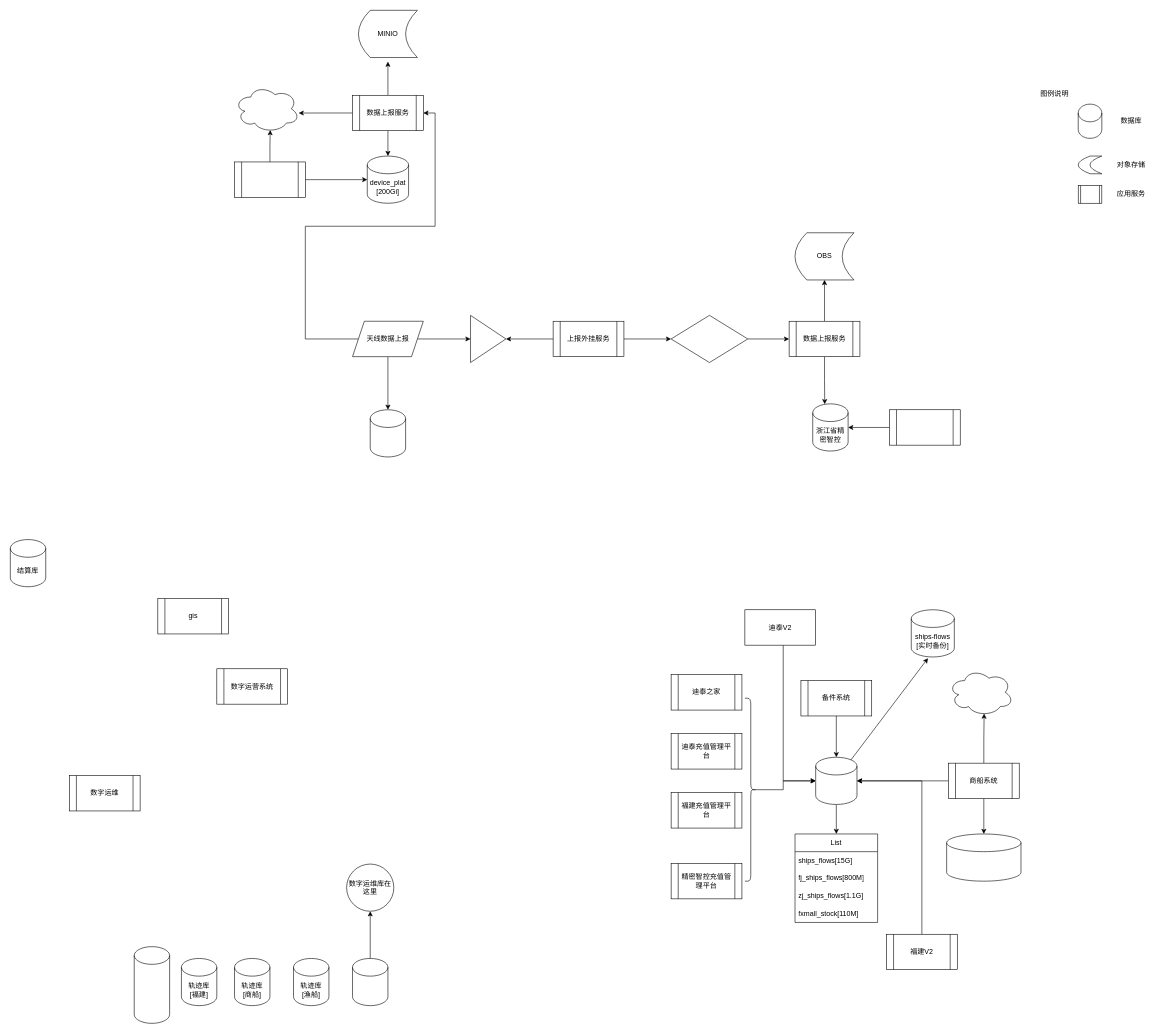
The diagram is 1159 pixels wide and 1034 high, and some of its shapes have lost their labels. Each missing label, with the centre of its shape:
"device_ai [50Gi]" goes at [388,433].
"ecs-redis" goes at [980,692].
"ecs_merchant_ship [50G]" goes at [983,857].
"elb 10.235.254.49" goes at [709,339].
"MQ" goes at [488,339].
"ships_flows [500Gi] [pxc]" goes at [836,780].
"smart-ctl-redis" goes at [266,108].
"历史轨迹库 [HDD28T]" goes at [152,984].
"设备管理平台" goes at [924,427].
"轨迹库 [精密智控] [2T]" goes at [370,982].
"迪泰设备管理平台" goes at [269,179].
